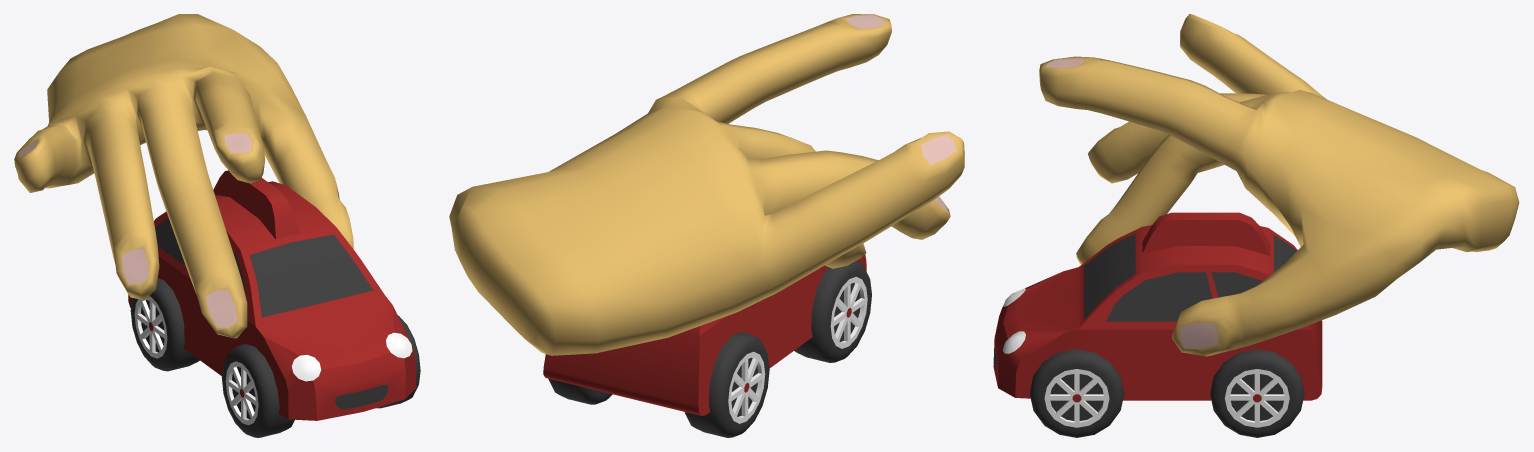
File: Car.fbx
The picture shows the model from 3 angles, left to right: view 1: azimuth 30°, elevation 25°; view 2: azimuth 150°, elevation 25°; view 3: azimuth 270°, elevation 25°; orthographic projection. The views are drawn at different scales.
Visible parts, largest first — view 1: Hand, Car, Wheel, Top; view 2: Hand, Car, Wheel; view 3: Hand, Car, Wheel, Top.
Part boxes in pixels (left/top/right/bottom): Hand: left=14, top=14, right=353, bottom=338; Car: left=128, top=181, right=416, bottom=420; Wheel: left=130, top=278, right=420, bottom=437; Top: left=213, top=170, right=300, bottom=239; Hand: left=449, top=14, right=964, bottom=355; Car: left=543, top=254, right=866, bottom=415; Wheel: left=548, top=261, right=871, bottom=437; Hand: left=1039, top=14, right=1519, bottom=356; Car: left=993, top=225, right=1322, bottom=400; Wheel: left=1029, top=349, right=1304, bottom=437; Top: left=1142, top=212, right=1270, bottom=256.
Size of the model in its own units: 537 by 696 by 444.
